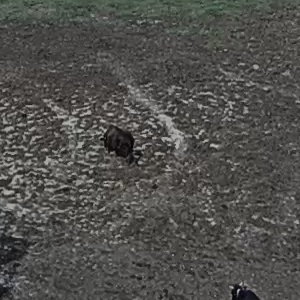cow: (77, 104, 149, 171)
